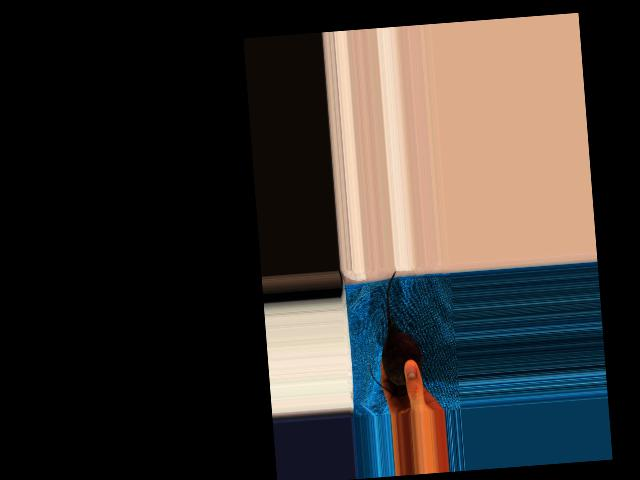beet: (363, 269, 425, 397)
